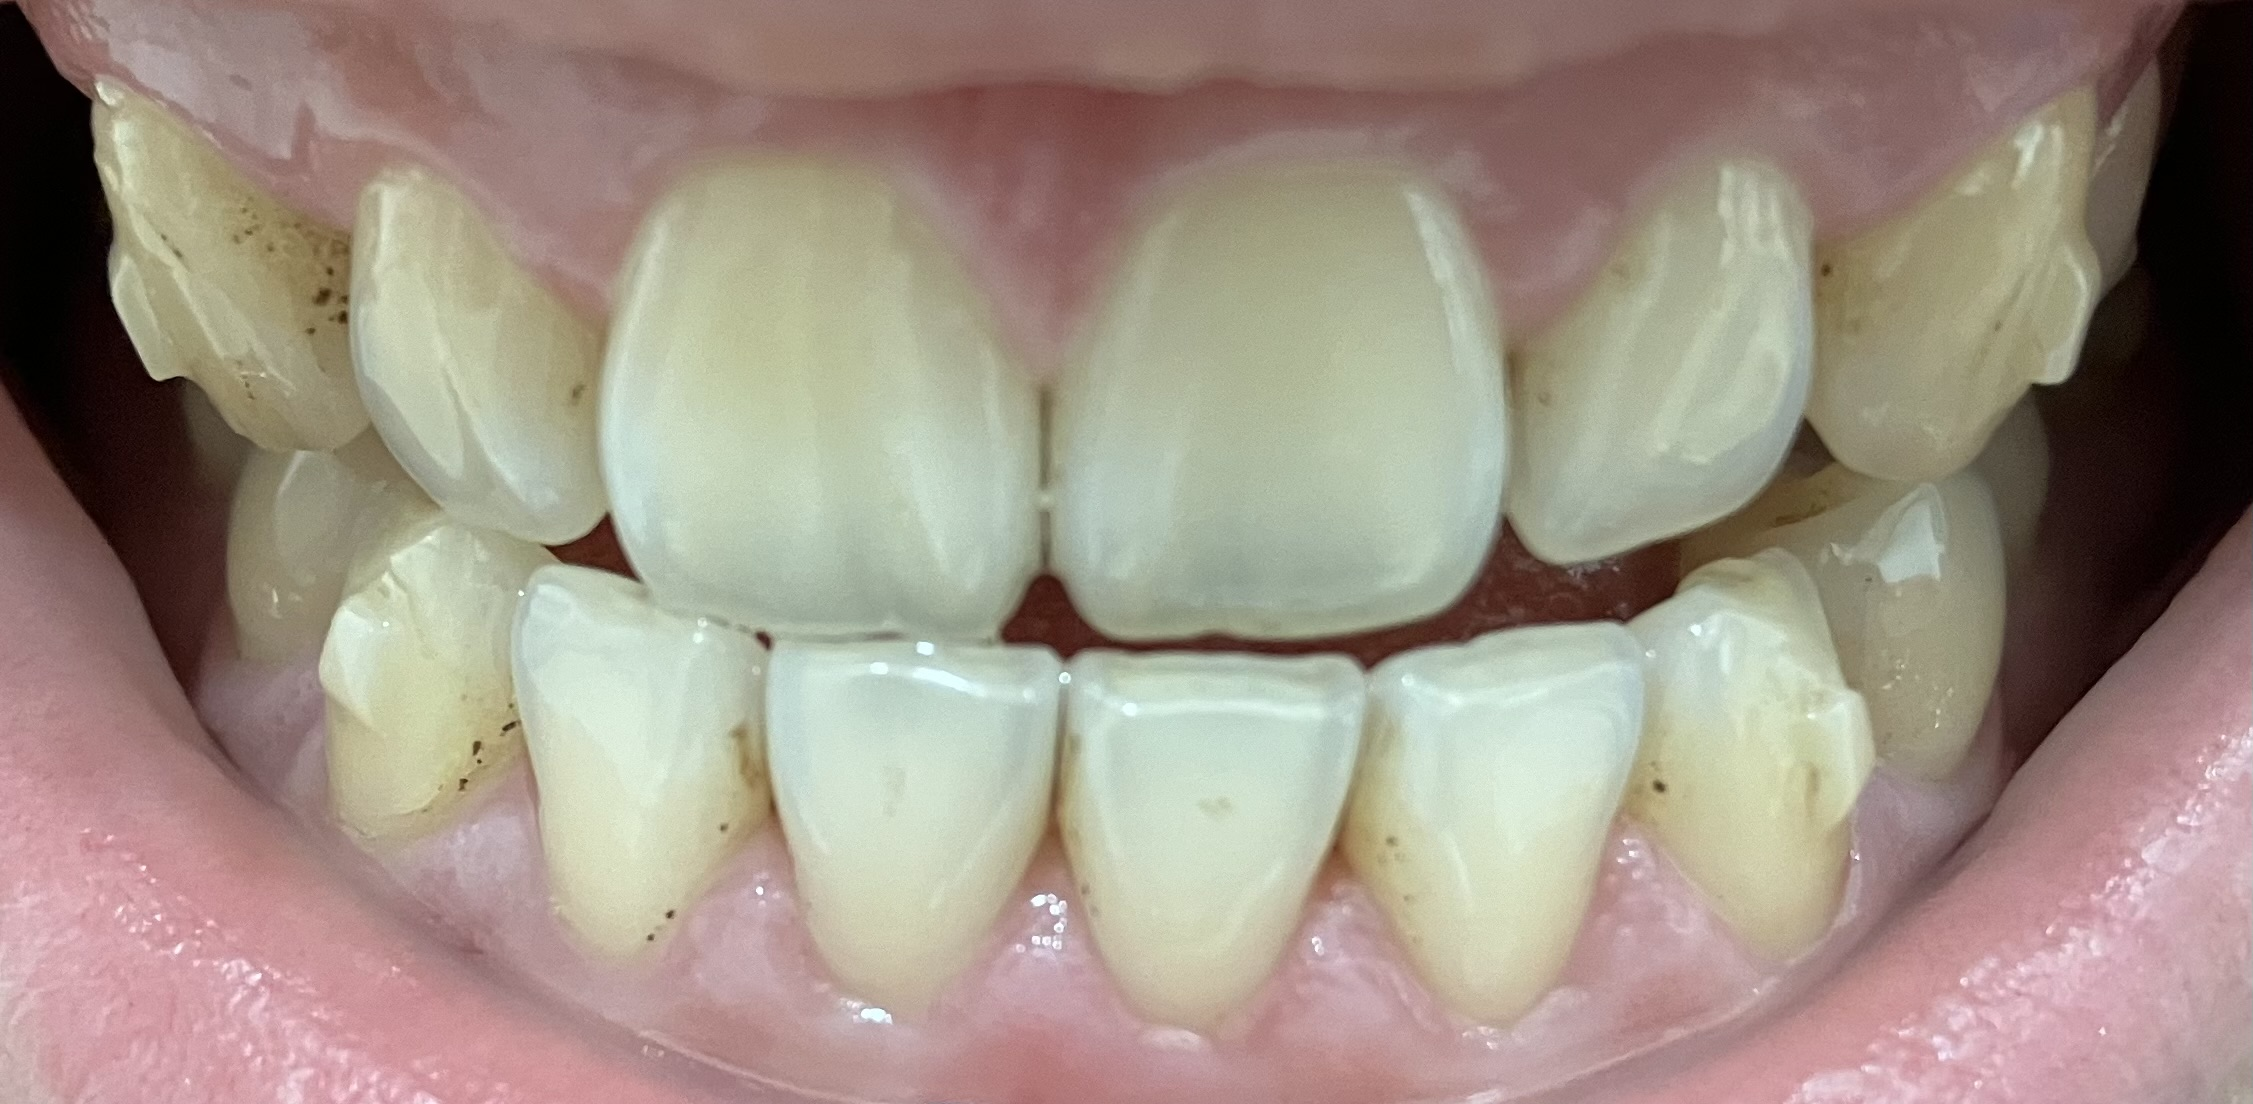teeth: (622, 141, 1009, 614), (1096, 172, 1480, 594), (1527, 145, 1809, 558), (1808, 91, 2104, 471), (1369, 630, 1641, 1034), (1063, 663, 1362, 983), (1639, 572, 1881, 960), (776, 657, 1063, 970), (92, 83, 346, 437), (519, 563, 740, 930), (362, 197, 598, 528), (1785, 467, 2010, 783), (322, 539, 537, 835), (224, 448, 378, 655), (2102, 76, 2160, 325)
